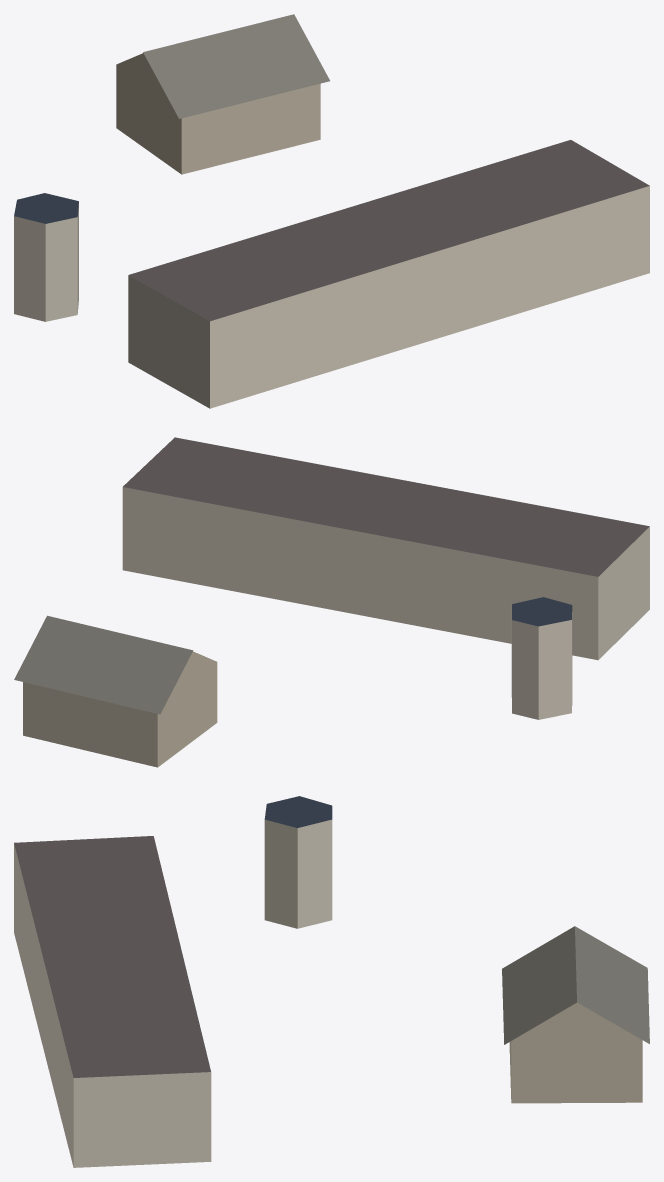
3 renders of one model, top to bottom at view 1: azimuth 30°, elevation 25°; view 2: azimuth 150°, elevation 25°; view 3: azimuth 270°, elevation 25°, orthographic. The views are drawn at different scales.
Visible parts, largest first — view 1: tuile; view 2: tuile; view 3: tuile.
Part boxes in pixels (x1,y1,x2,y2): tuile: (14,14,649,408); tuile: (14,437,649,767); tuile: (14,796,649,1167).
Bounding box in the file's own units: 30.4 × 5.89 × 30.95.
